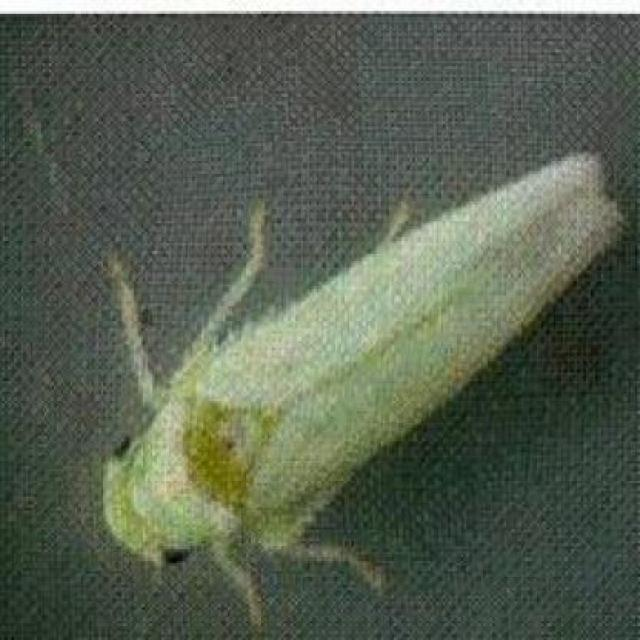green-leafhopper: (108, 151, 610, 575)
